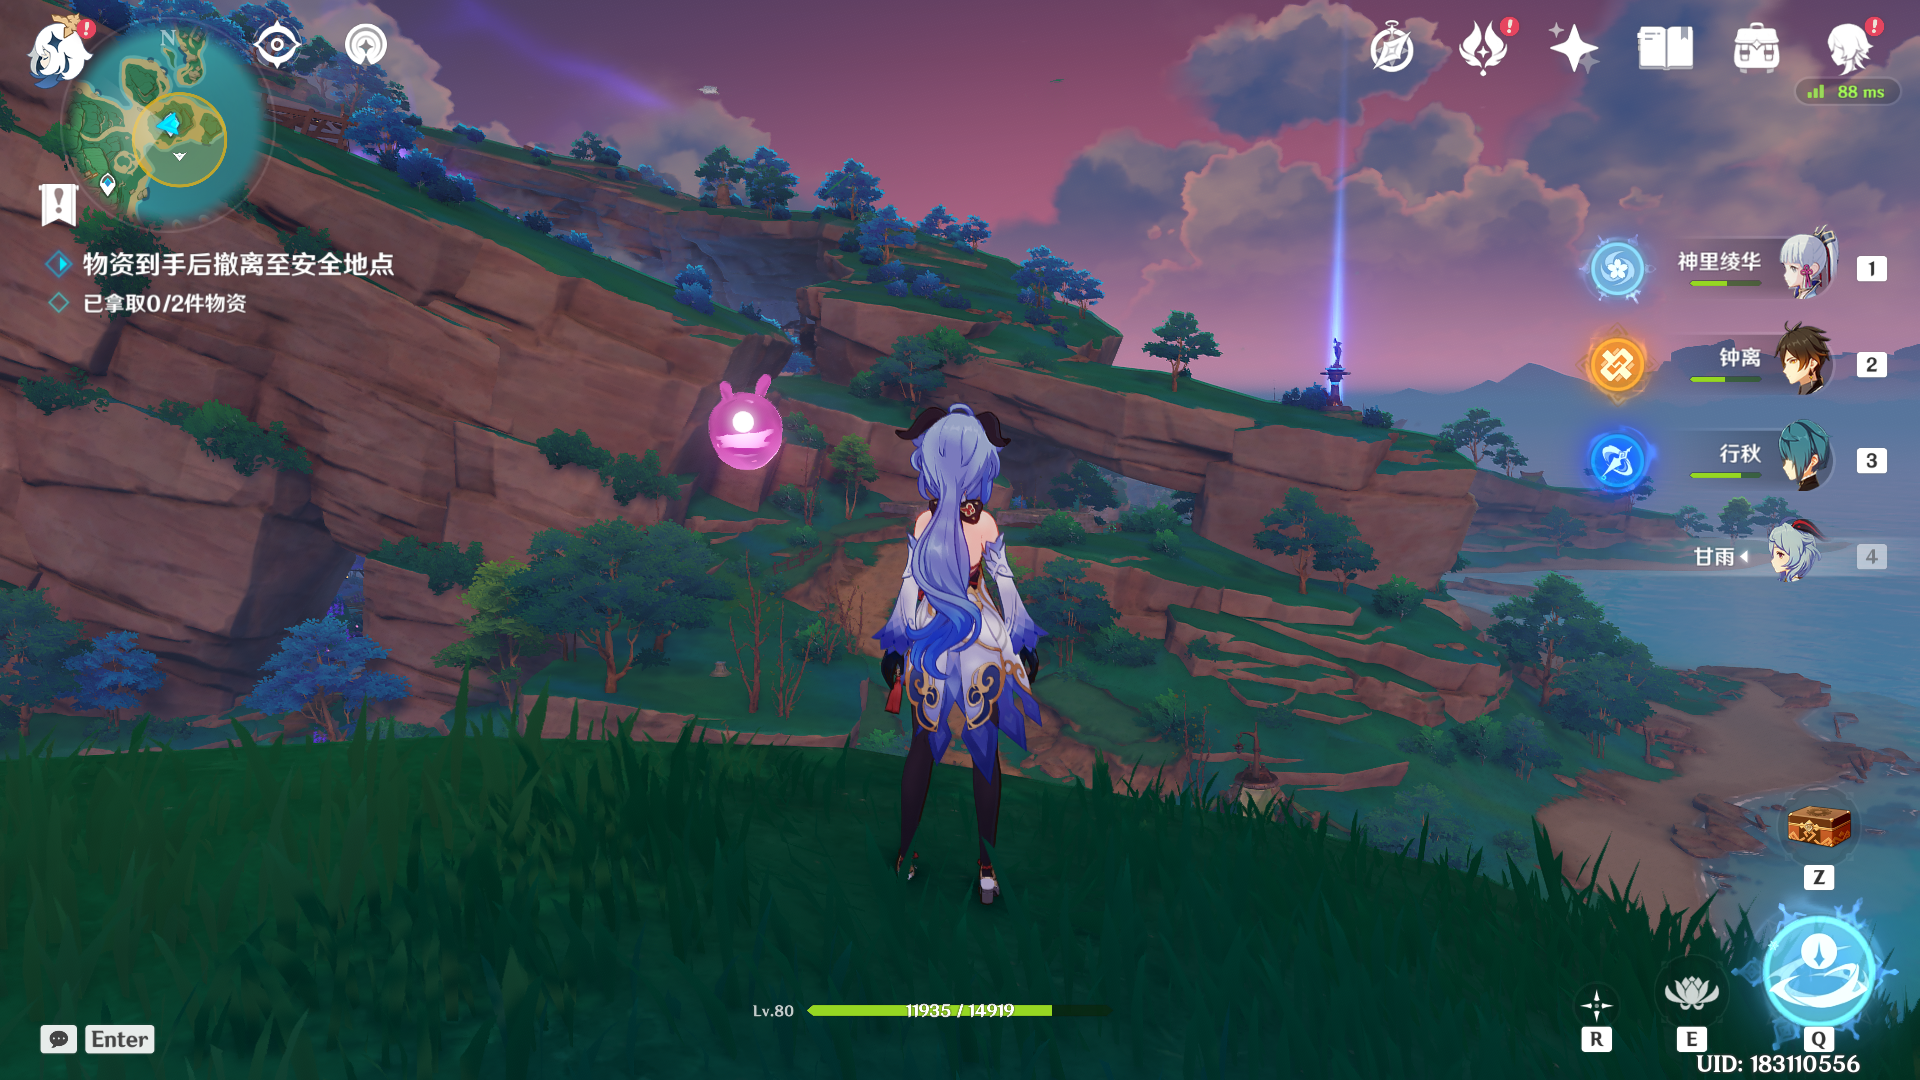character: (820, 381, 1083, 945)
